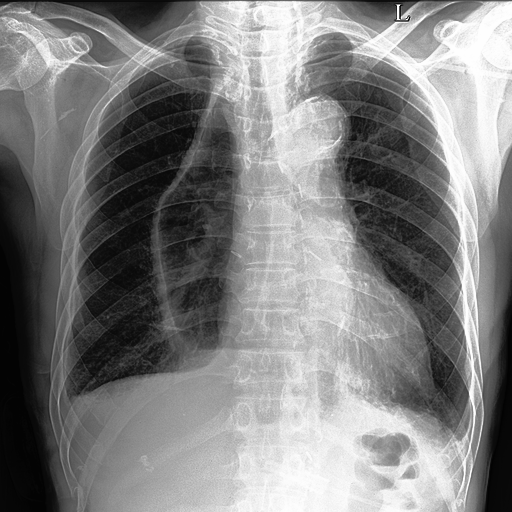Calcification: (167, 35, 225, 66)
Cardiomegaly: (338, 372, 472, 430), (59, 337, 192, 386)
Consolidation: (259, 93, 359, 182)
Lung Opacity: (291, 96, 350, 150)
Other lesion: (141, 46, 246, 369)
Pleural effusion: (19, 350, 178, 459), (358, 364, 488, 474), (36, 354, 91, 401), (433, 421, 499, 447), (49, 392, 87, 415)
